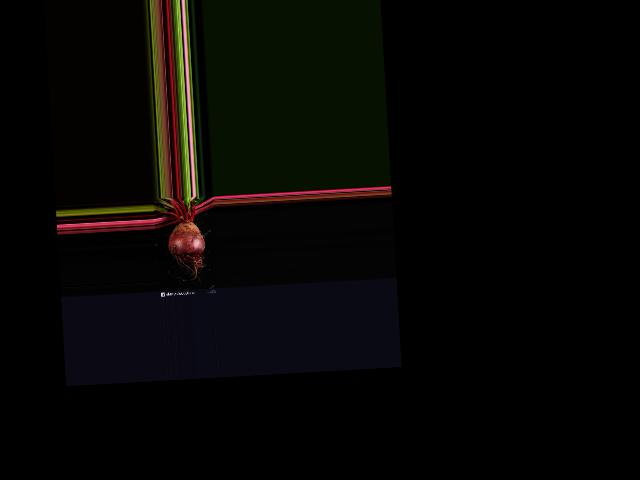beet: (152, 196, 208, 286)
